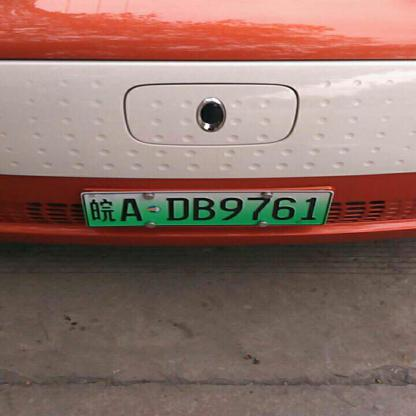lp: (82, 190, 333, 227)
